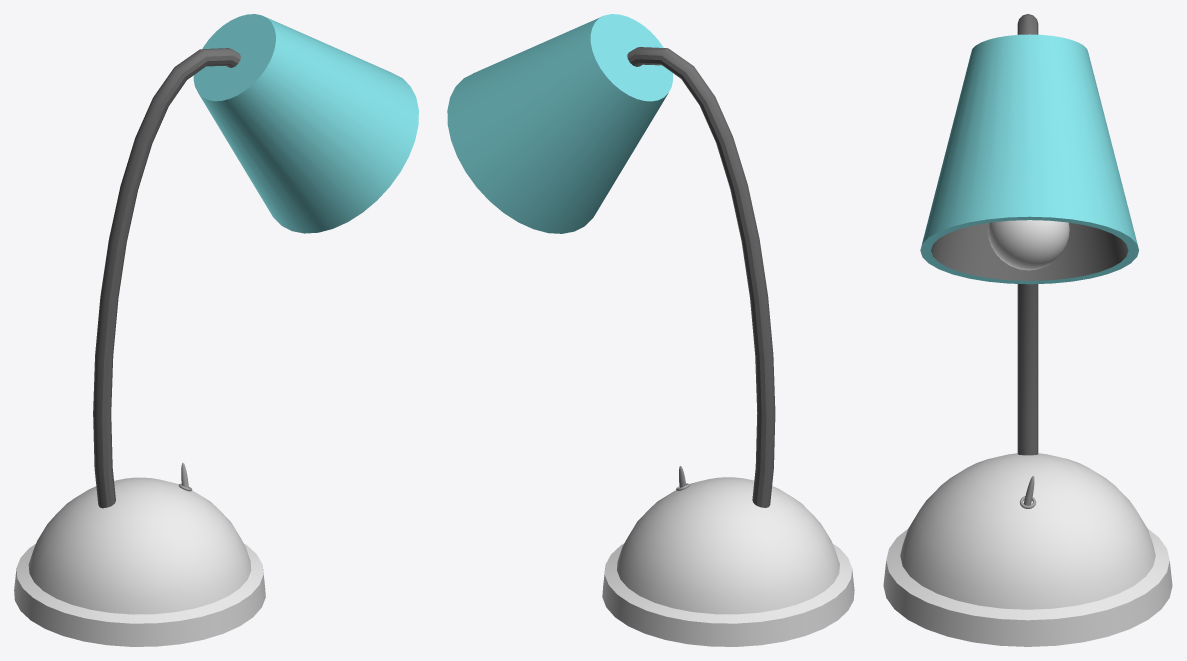
File: lampka.fbx
The picture shows the model from 3 angles, left to right: view 1: azimuth 30°, elevation 25°; view 2: azimuth 150°, elevation 25°; view 3: azimuth 270°, elevation 25°; orthographic projection. The views are drawn at different scales.
Parts seen in each view (by area): view 1: Cylinder; view 2: Cylinder; view 3: Cylinder.
Part boxes in pixels (<box>): Cylinder: <box>14,14,418,646</box>; Cylinder: <box>447,14,854,646</box>; Cylinder: <box>883,14,1172,646</box>.
Bounding box in the file's own units: 284 × 396 × 166.
